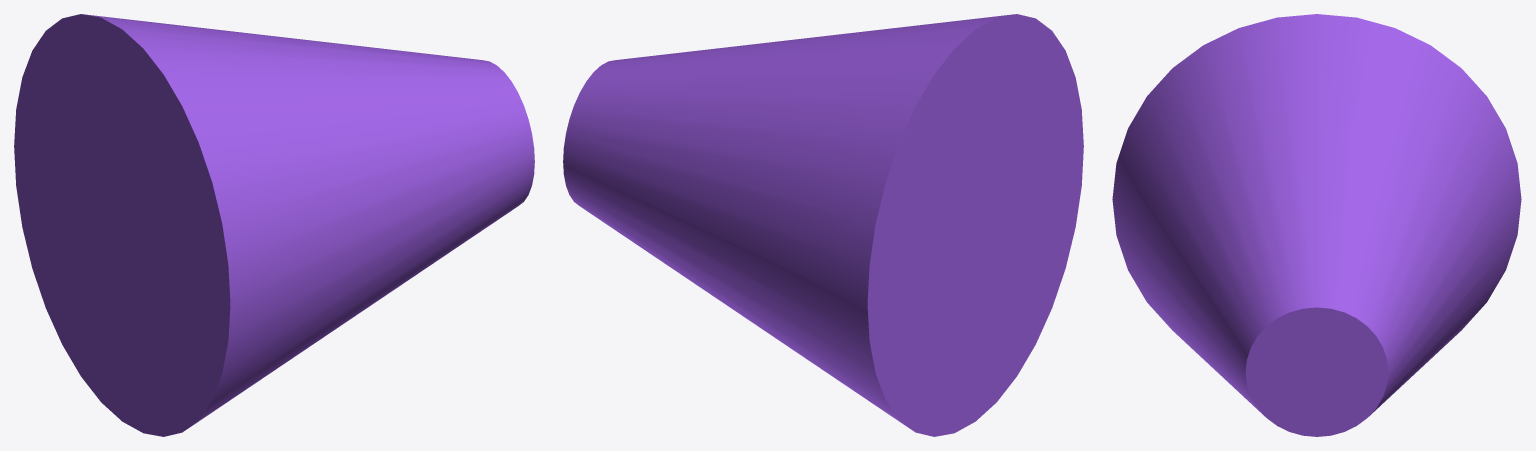
File: jet.gltf
The picture shows the model from 3 angles, left to right: view 1: azimuth 30°, elevation 25°; view 2: azimuth 150°, elevation 25°; view 3: azimuth 270°, elevation 25°; orthographic projection. The views are drawn at different scales.
Parts seen in each view (by area): view 1: Cylinder; view 2: Cylinder; view 3: Cylinder.
Boxes of the visible parts, left/top/right/bottom form: Cylinder: left=14, top=14, right=534, bottom=436; Cylinder: left=563, top=14, right=1083, bottom=436; Cylinder: left=1112, top=14, right=1521, bottom=436.
Size of the model in its own units: 2 by 2 by 2.
